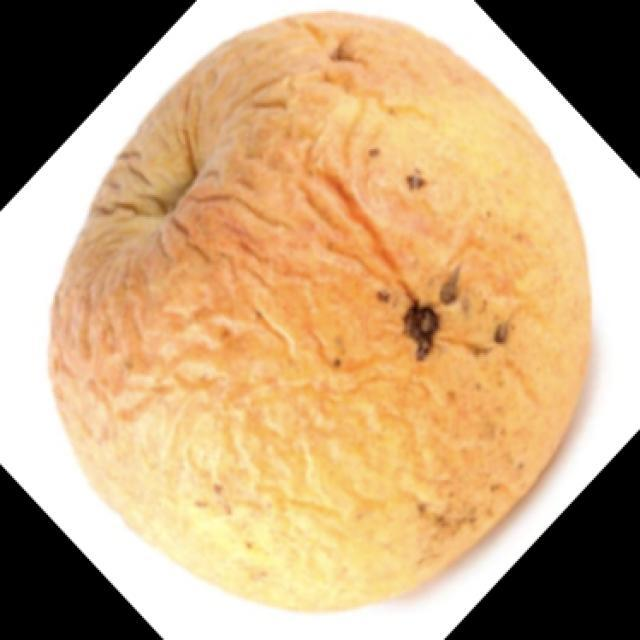Rotten: (71, 15, 582, 603)
